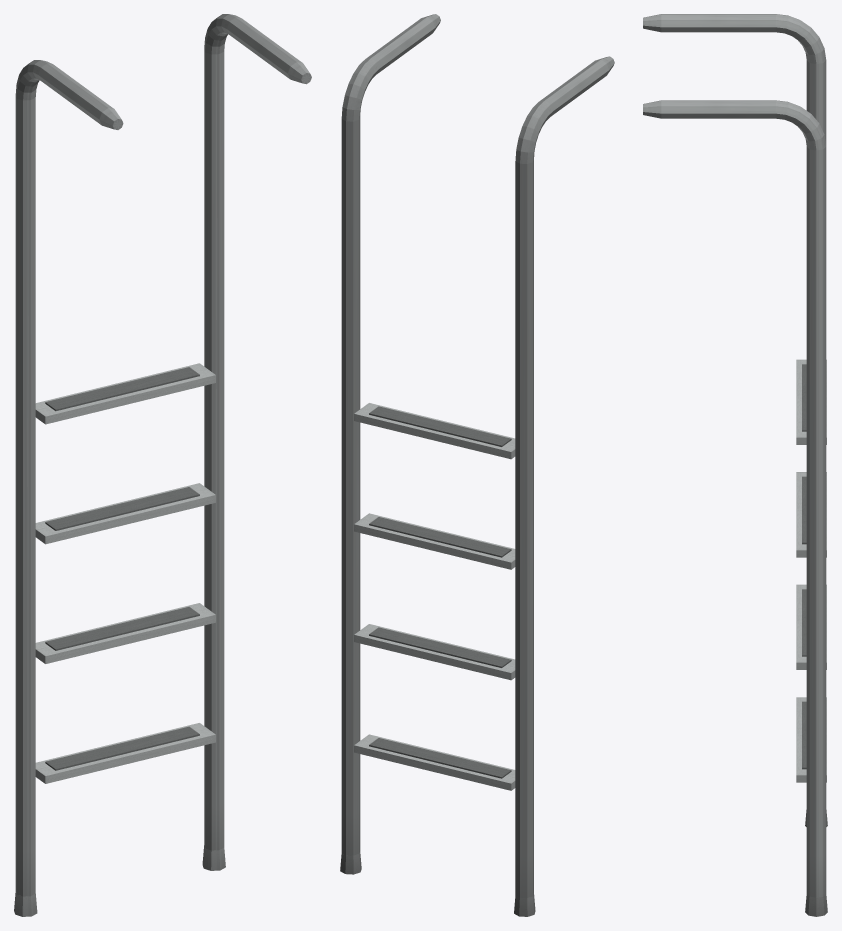
File: pool_ladder.glb
The picture shows the model from 3 angles, left to right: view 1: azimuth 30°, elevation 25°; view 2: azimuth 150°, elevation 25°; view 3: azimuth 270°, elevation 25°; orthographic projection. The views are drawn at different scales.
Parts seen in each view (by area): view 1: core_pool_ladder; view 2: core_pool_ladder; view 3: core_pool_ladder.
Part boxes in pixels (left/top/right/bottom): core_pool_ladder: left=14, top=14, right=311, bottom=916; core_pool_ladder: left=340, top=14, right=614, bottom=916; core_pool_ladder: left=643, top=14, right=827, bottom=916.
Bounding box in the file's own units: 0.558 × 2.2 × 0.454.
Materials: 1 (1 with a texture image).
